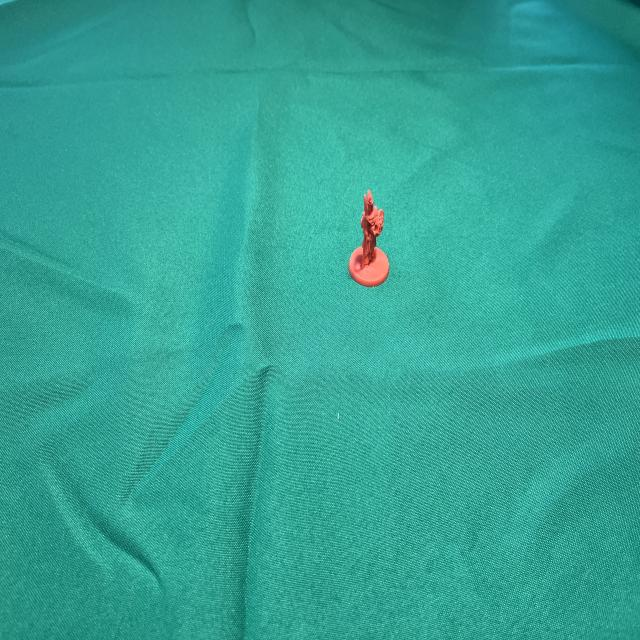amon_follower: (349, 190, 389, 287)
